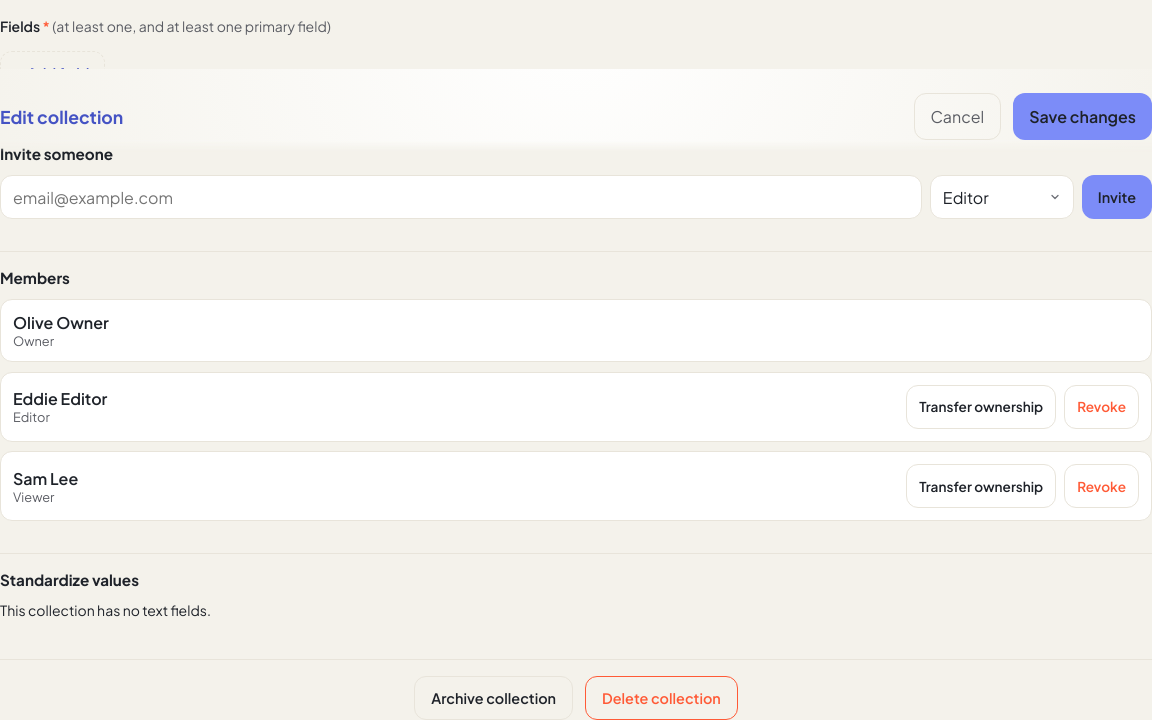
Test: Admin ownership transfer › asks before transferring and does not transfer when cancelled
(page scrolled)
Click the button "Transfer ownership" in the row of "Sam Lee". click: (981, 486)
box: [906,464,1056,508]
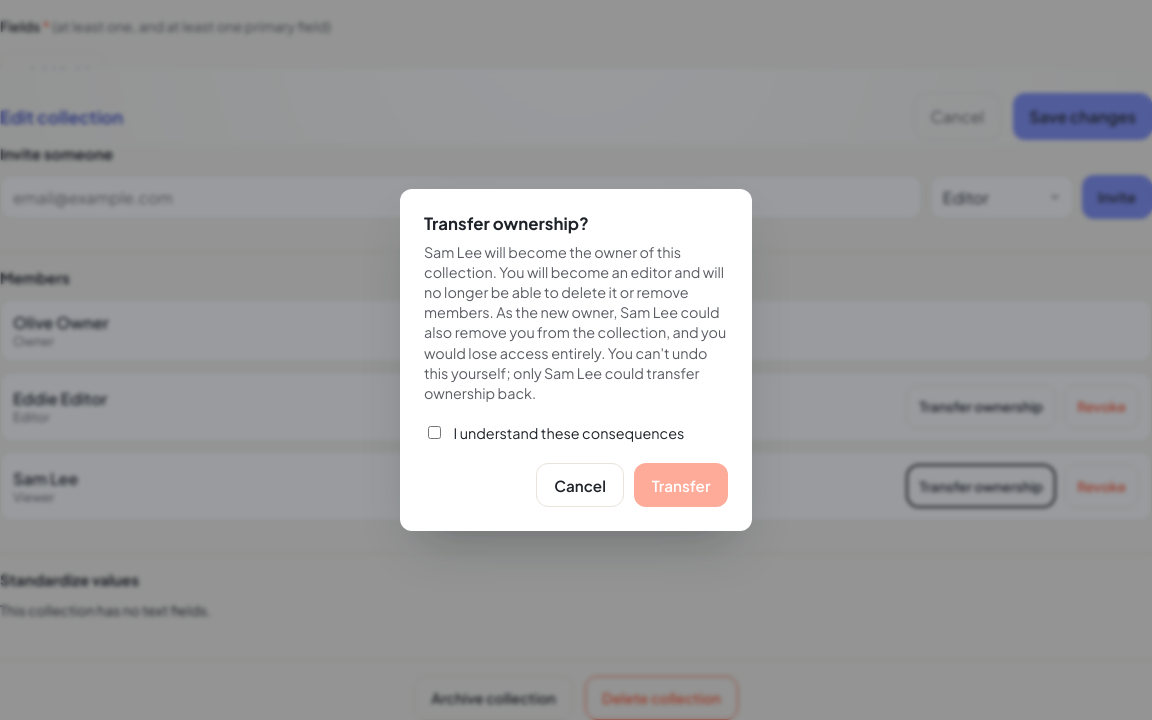
Check: the heading "Transfer ownership?" is shown, box [424,213,589,234]
Check: the dialog shows "Sam Lee", box [424,243,726,402]
Click the button "Cancel". click: (580, 485)
box: [536,463,624,507]
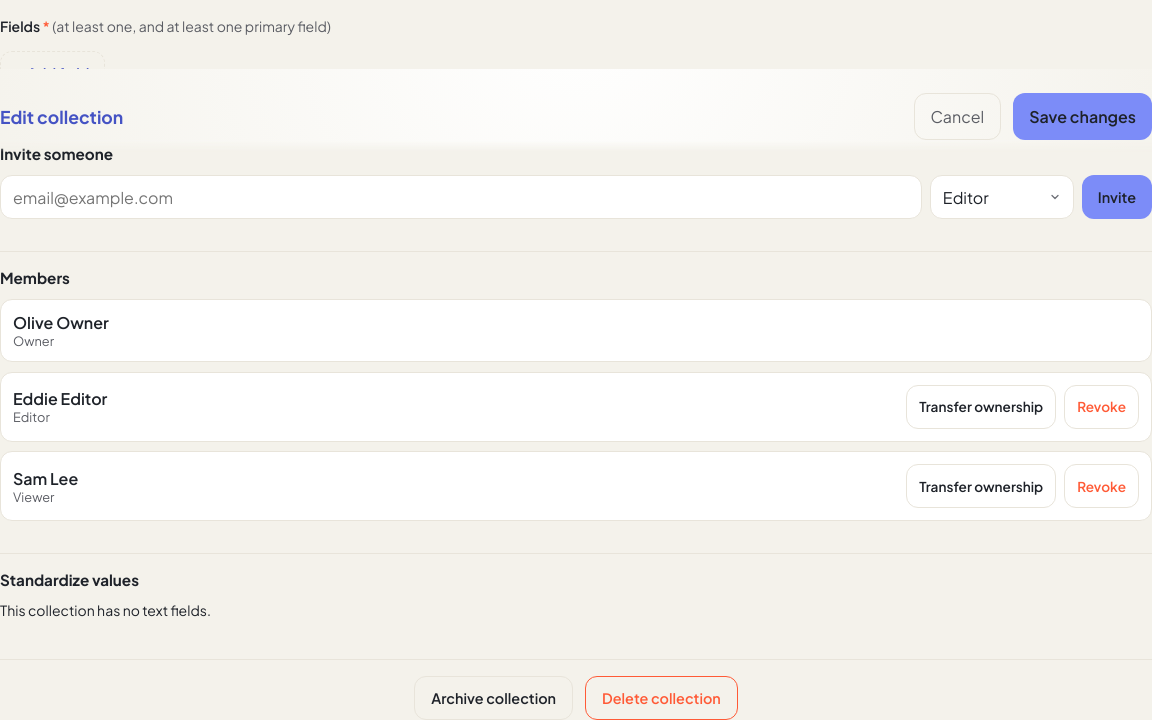
Check: the dialog is gone
